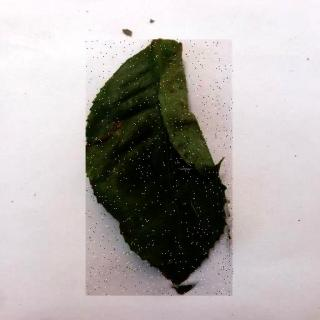Algal Leaf: (87, 41, 234, 297)
